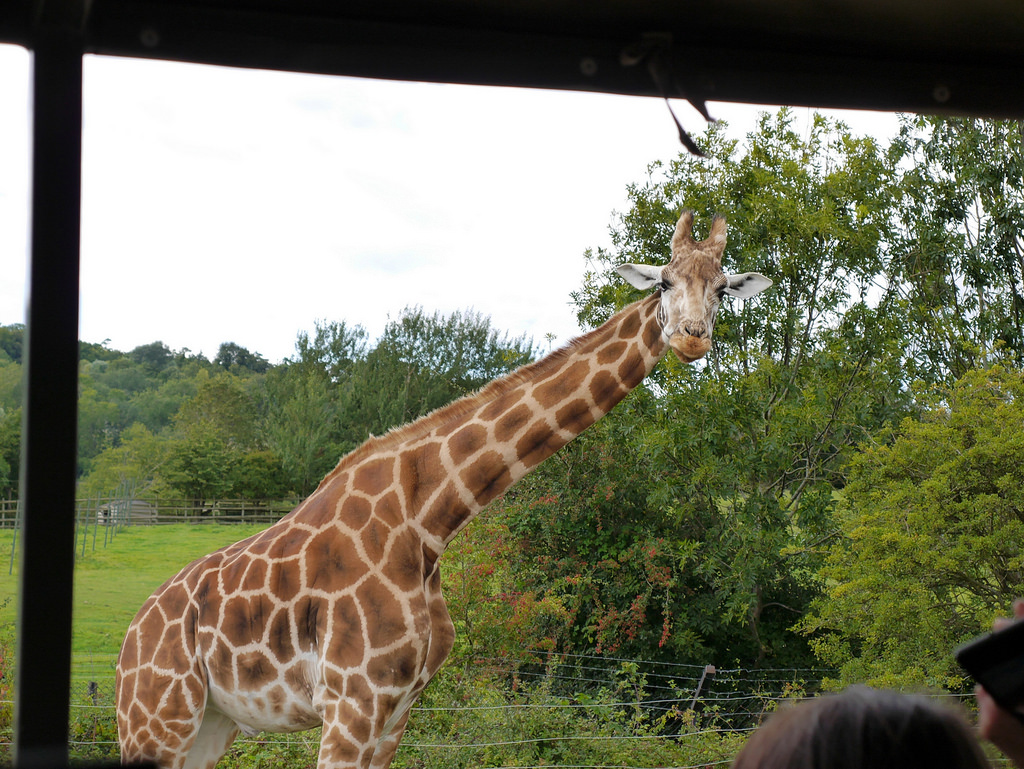giraffe: (130, 217, 803, 737)
